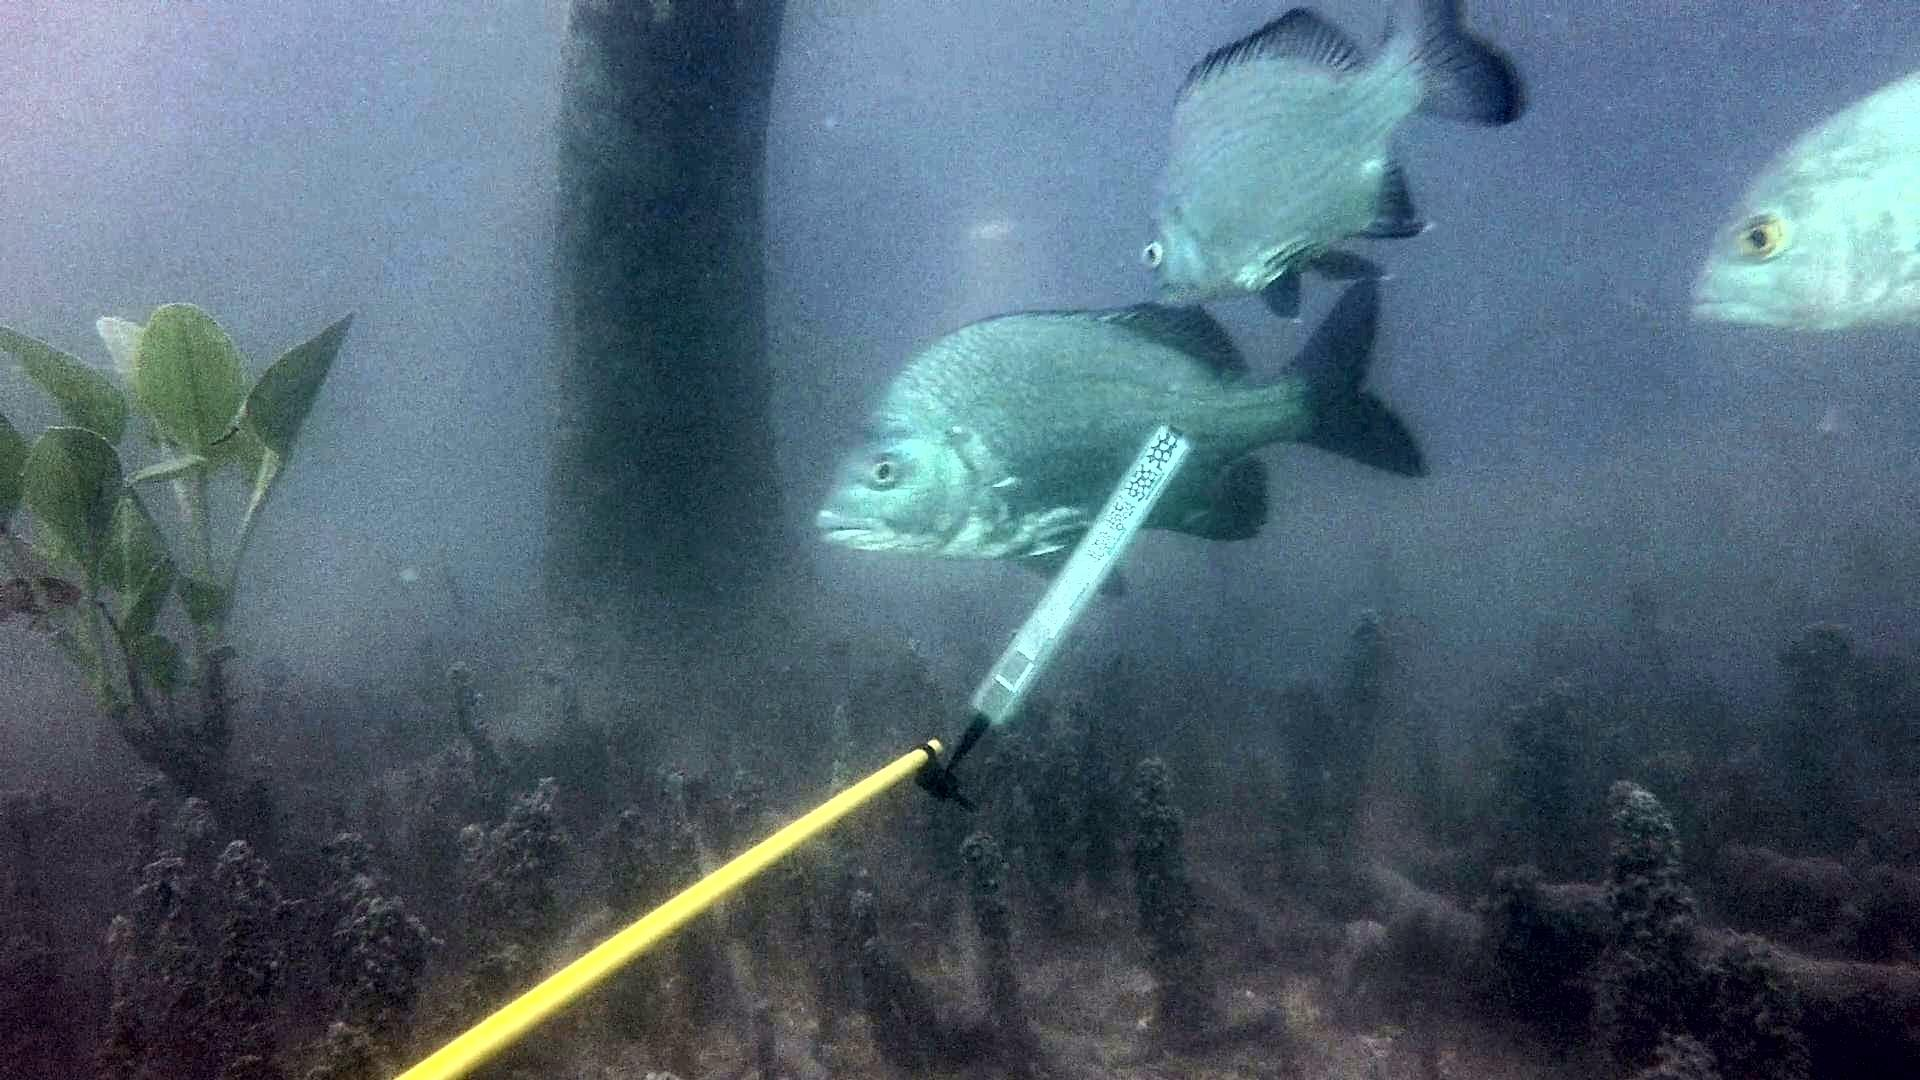acanthopagrus palmaris: (803, 258, 1434, 611), (1133, 0, 1538, 331)
caranx: (1671, 58, 1920, 348)
